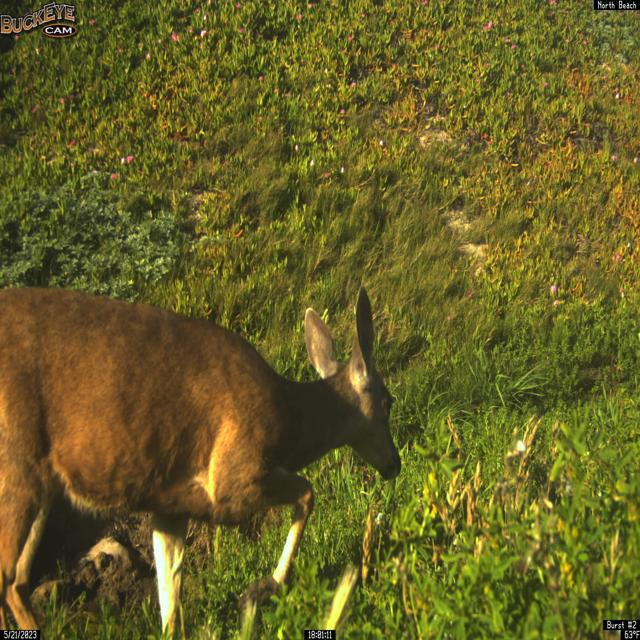deer: (0, 283, 402, 640)
